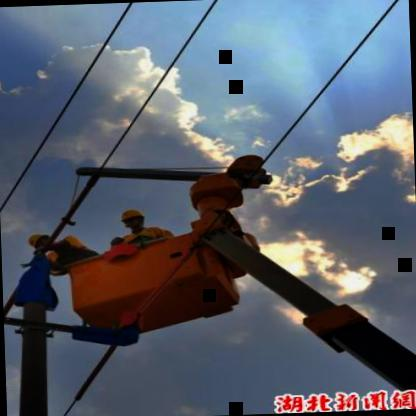helmet: (23, 232, 66, 252), (120, 208, 148, 231)
